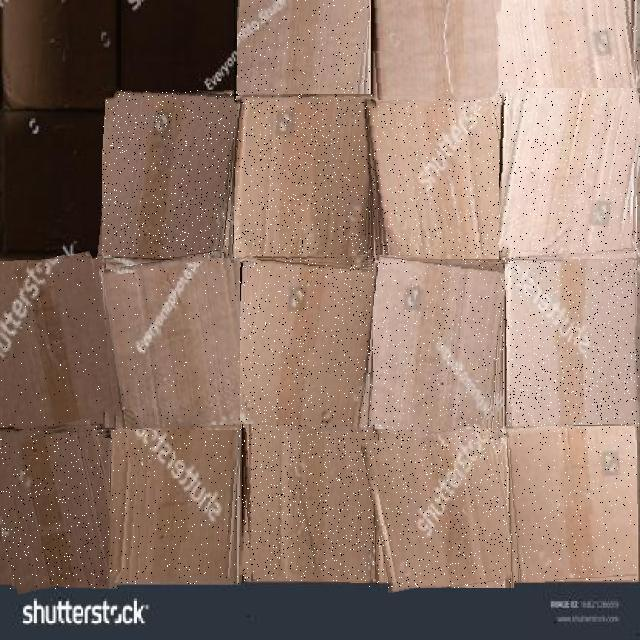BoxFace: (104, 258, 245, 434), (102, 90, 238, 272), (499, 88, 640, 263), (366, 423, 514, 588), (234, 94, 374, 264), (240, 258, 377, 430), (506, 259, 639, 432), (373, 256, 505, 430), (367, 99, 505, 261), (0, 256, 120, 432), (242, 424, 376, 581), (508, 426, 637, 582), (111, 430, 240, 584), (0, 428, 121, 589), (371, 0, 506, 102), (498, 0, 638, 96), (237, 0, 370, 96)
